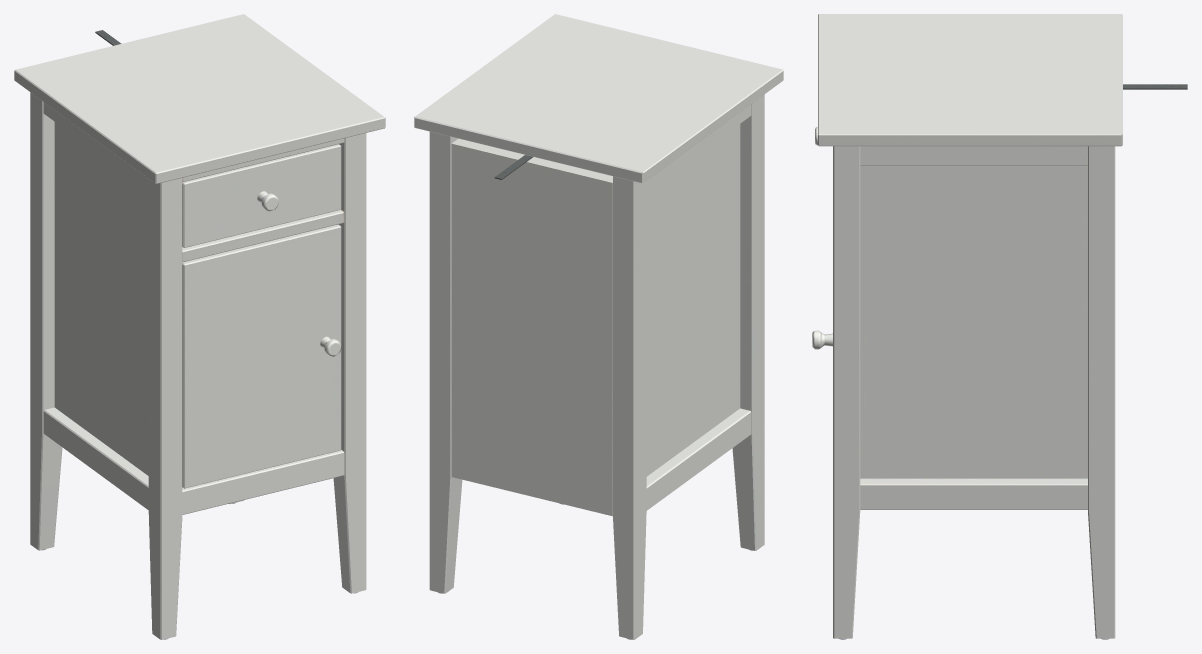
The model's file is gullaberg_nightstand_with_1_drawer_with_.glb.
The picture shows the model from 3 angles, left to right: view 1: azimuth 30°, elevation 25°; view 2: azimuth 150°, elevation 25°; view 3: azimuth 270°, elevation 25°; orthographic projection. The views are drawn at different scales.
Visible parts, largest first — view 1: ASY_ART_20561764_S01_NV01, ASY_LPT01_20561764_S01_NV01; view 2: ASY_ART_20561764_S01_NV01; view 3: ASY_ART_20561764_S01_NV01.
Part boxes in pixels (<box>): ASY_ART_20561764_S01_NV01: <box>14,14,385,639</box>; ASY_LPT01_20561764_S01_NV01: <box>182,144,341,247</box>; ASY_ART_20561764_S01_NV01: <box>414,14,783,639</box>; ASY_ART_20561764_S01_NV01: <box>812,14,1187,639</box>.
Bounding box in the file's own units: 0.3758 × 0.7455 × 0.4931.
Materials: 3 (3 with a texture image).
